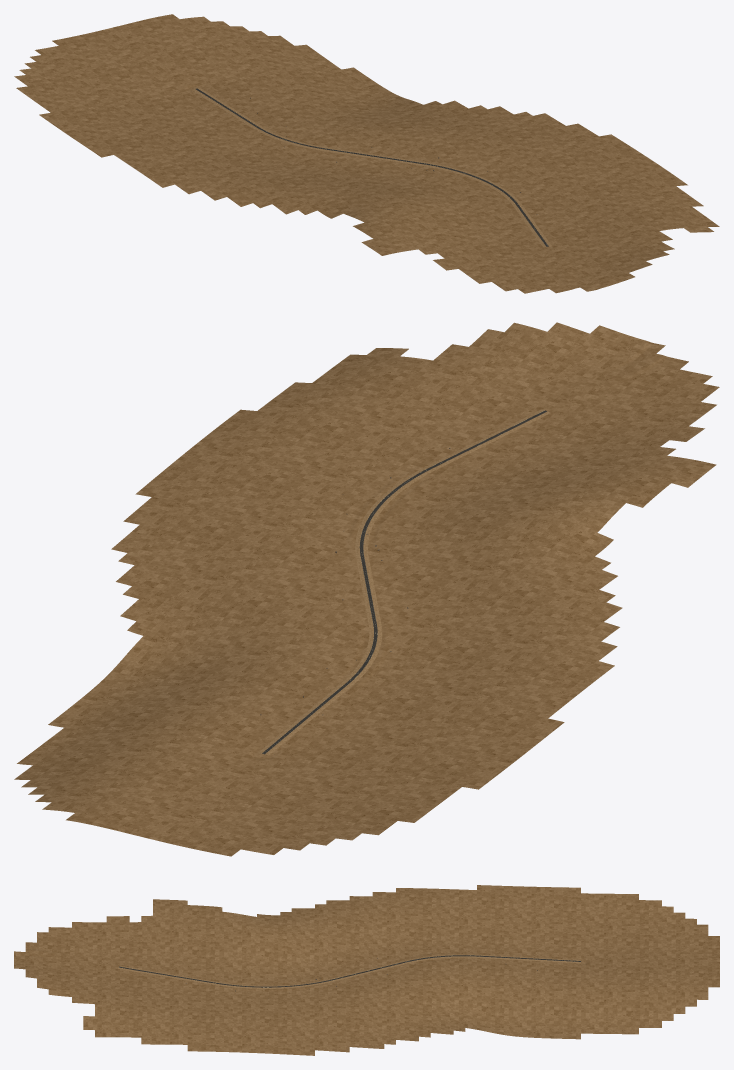
3 views of the same model, one above another, from view 1: azimuth 30°, elevation 25°; view 2: azimuth 150°, elevation 25°; view 3: azimuth 270°, elevation 25° (orthographic). The views are drawn at different scales.
Parts seen in each view (by area): view 1: S01_TERRAIN_LOD0_WEB_EXPORT, V2_LANDFORM_S01_CUT_FILL_LEFT_WEB_EXPORT, V2_LANDFORM_S01_CUT_FILL_RIGHT_WEB_EXPORT, S01_ROAD_ASPHALT_LOD0_WEB_EXPORT; view 2: S01_TERRAIN_LOD0_WEB_EXPORT, V2_LANDFORM_S01_CUT_FILL_LEFT_WEB_EXPORT, V2_LANDFORM_S01_CUT_FILL_RIGHT_WEB_EXPORT, S01_ROAD_ASPHALT_LOD0_WEB_EXPORT; view 3: S01_TERRAIN_LOD0_WEB_EXPORT, V2_LANDFORM_S01_CUT_FILL_RIGHT_WEB_EXPORT, V2_LANDFORM_S01_CUT_FILL_LEFT_WEB_EXPORT, S01_ROAD_ASPHALT_LOD0_WEB_EXPORT.
Boxes of the visible parts, bbox=[...] form: S01_TERRAIN_LOD0_WEB_EXPORT: bbox=[14, 14, 719, 293]; V2_LANDFORM_S01_CUT_FILL_LEFT_WEB_EXPORT: bbox=[192, 89, 545, 247]; V2_LANDFORM_S01_CUT_FILL_RIGHT_WEB_EXPORT: bbox=[198, 88, 551, 246]; S01_ROAD_ASPHALT_LOD0_WEB_EXPORT: bbox=[195, 88, 548, 246]; S01_TERRAIN_LOD0_WEB_EXPORT: bbox=[14, 322, 719, 856]; V2_LANDFORM_S01_CUT_FILL_LEFT_WEB_EXPORT: bbox=[265, 411, 550, 755]; V2_LANDFORM_S01_CUT_FILL_RIGHT_WEB_EXPORT: bbox=[258, 409, 543, 753]; S01_ROAD_ASPHALT_LOD0_WEB_EXPORT: bbox=[262, 410, 546, 754]; S01_TERRAIN_LOD0_WEB_EXPORT: bbox=[14, 885, 719, 1055]; V2_LANDFORM_S01_CUT_FILL_RIGHT_WEB_EXPORT: bbox=[118, 956, 580, 988]; V2_LANDFORM_S01_CUT_FILL_LEFT_WEB_EXPORT: bbox=[119, 954, 580, 986]; S01_ROAD_ASPHALT_LOD0_WEB_EXPORT: bbox=[119, 955, 580, 987].
Size of the model in its own units: 1360 by 181 by 2440.
Materials: 12 (9 with a texture image).
